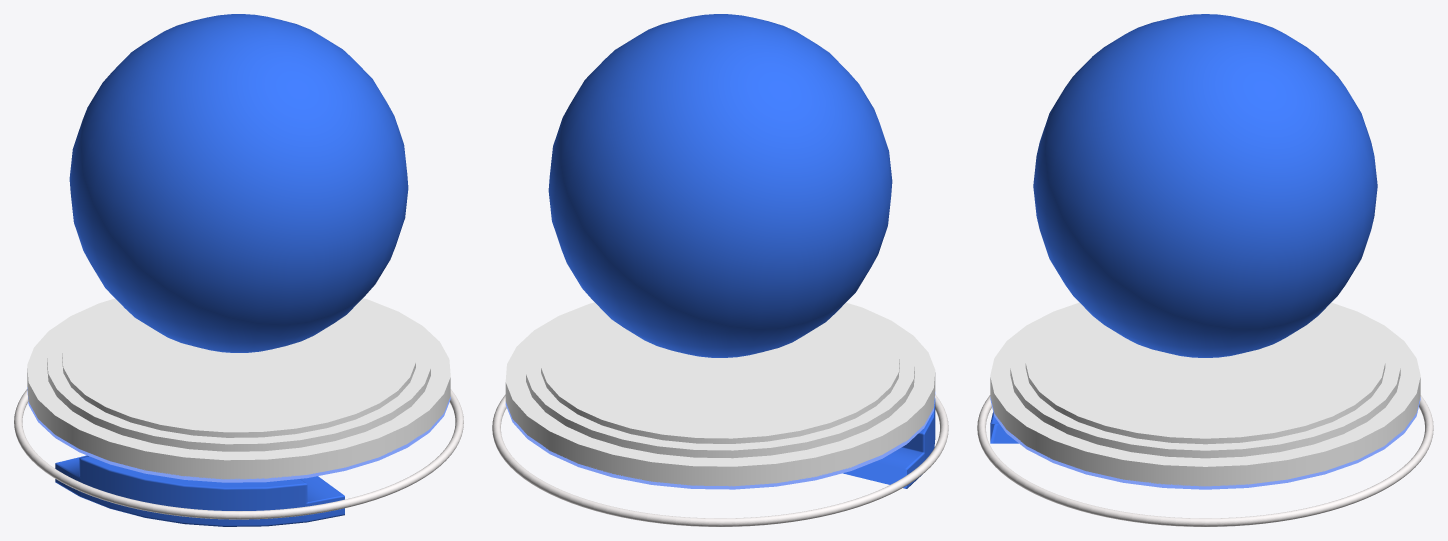
Rendered from ball.glb.
The picture shows the model from 3 angles, left to right: view 1: azimuth 30°, elevation 25°; view 2: azimuth 150°, elevation 25°; view 3: azimuth 270°, elevation 25°; orthographic projection.
Visible parts, largest first — view 1: qiu, zhutifuzhi, zhhu, huanti, zifaguang; view 2: qiu, zhutifuzhi, huanti, zhhu, zifaguang; view 3: qiu, zhutifuzhi, huanti, zifaguang.
Boxes of the visible parts, x1=… form: qiu: x1=69, y1=14, x2=408, y2=352; zhutifuzhi: x1=27, y1=298, x2=450, y2=479; zhhu: x1=55, y1=455, x2=344, y2=526; huanti: x1=14, y1=389, x2=463, y2=519; zifaguang: x1=27, y1=387, x2=450, y2=482; qiu: x1=548, y1=14, x2=892, y2=357; zhutifuzhi: x1=505, y1=302, x2=935, y2=486; huanti: x1=492, y1=394, x2=948, y2=526; zhhu: x1=843, y1=398, x2=935, y2=488; zifaguang: x1=505, y1=392, x2=935, y2=489; qiu: x1=1033, y1=14, x2=1377, y2=357; zhutifuzhi: x1=990, y1=302, x2=1420, y2=486; huanti: x1=977, y1=395, x2=1433, y2=526; zifaguang: x1=990, y1=396, x2=1420, y2=489.
Bounding box in the file's own units: 10.6 × 10.6 × 10.6.
